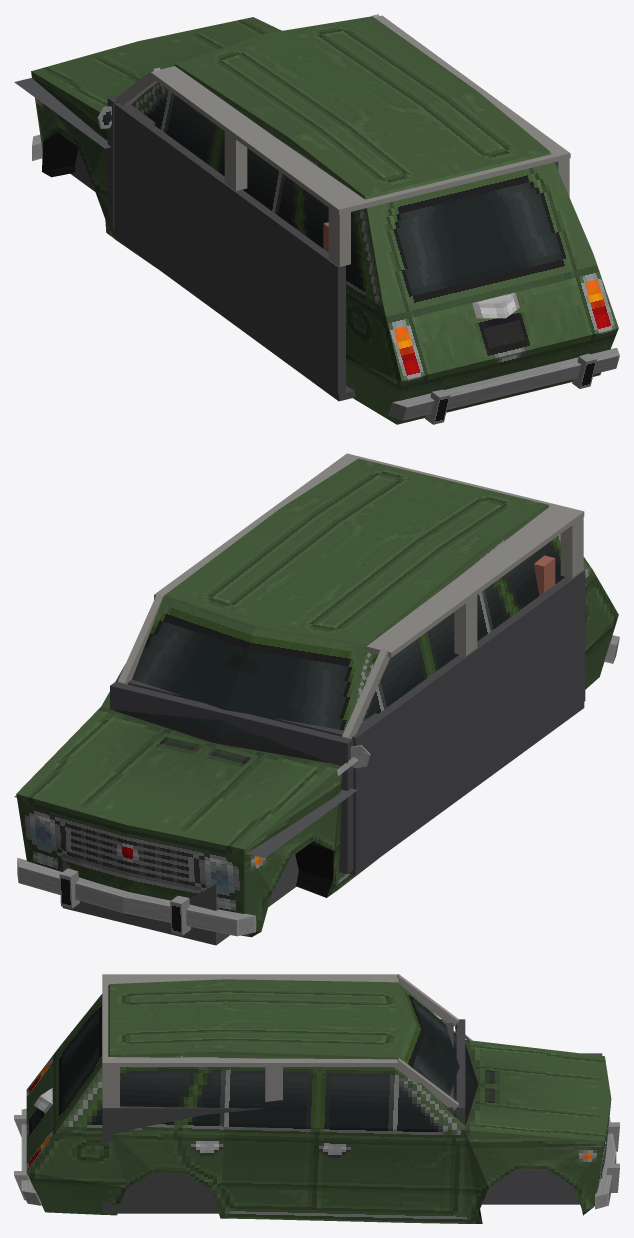
Rendered from kombi.glb.
3 renders of one model, top to bottom at view 1: azimuth 30°, elevation 25°; view 2: azimuth 150°, elevation 25°; view 3: azimuth 270°, elevation 25°, orthographic. The views are drawn at different scales.
Visible parts, largest first — view 1: body, interior, hood, bay; view 2: body, interior, hood, bay; view 3: body, interior, hood, bay.
Boxes of the visible parts, x1,y1,x2,y2 form: body: (31, 16, 619, 424); interior: (107, 14, 570, 401); hood: (31, 17, 281, 112); bay: (14, 78, 110, 191); body: (16, 458, 619, 937); interior: (110, 453, 585, 875); hood: (16, 706, 361, 849); bay: (14, 788, 357, 945); body: (14, 979, 619, 1223); interior: (102, 974, 465, 1213); hood: (464, 1034, 611, 1141); bay: (482, 1053, 602, 1204).
Bounding box in the file's own units: 1.64 × 1.25 × 4.15.
Materials: 8 (1 with a texture image).
